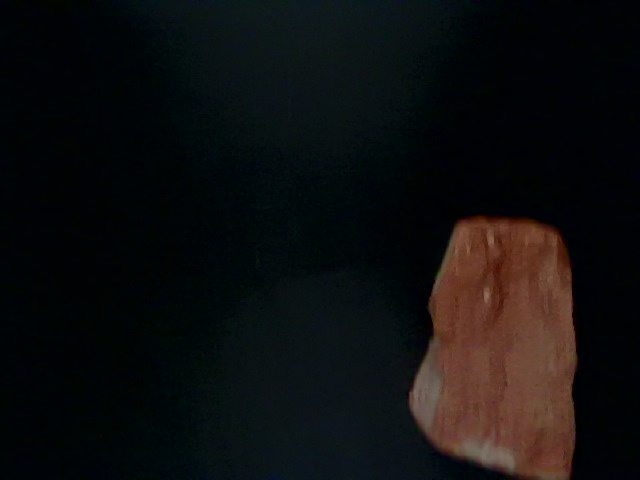KHSLJ: (62, 167, 392, 472)
